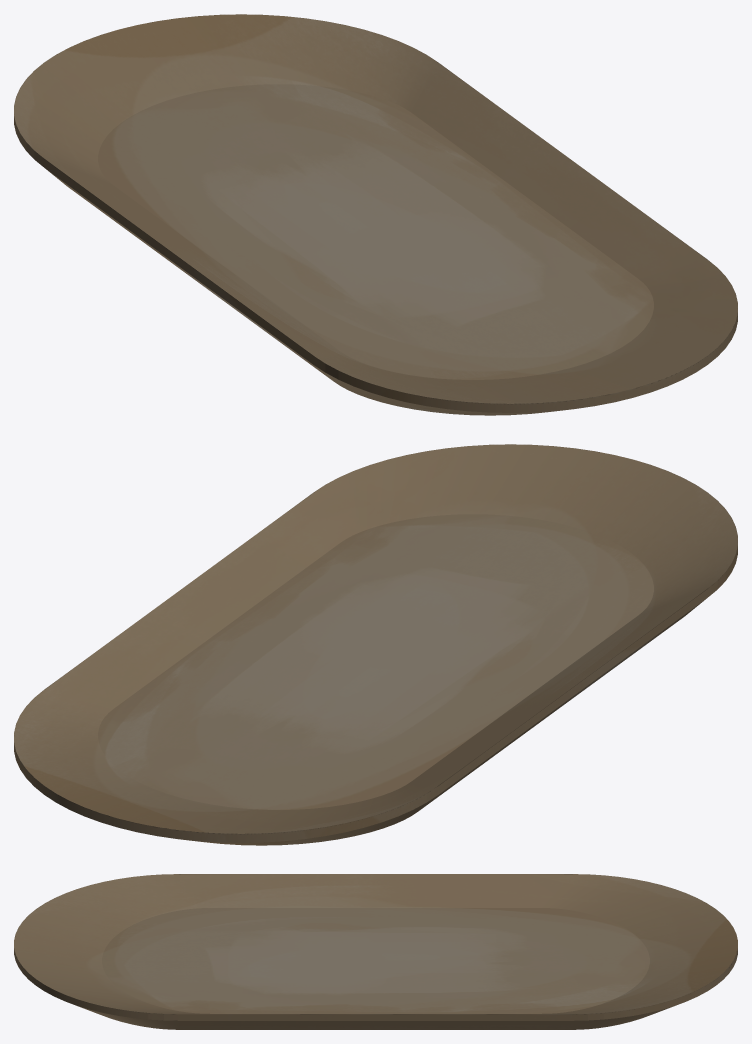
Rendered from plate.fbx.
3 renders of one model, top to bottom at view 1: azimuth 30°, elevation 25°; view 2: azimuth 150°, elevation 25°; view 3: azimuth 270°, elevation 25°, orthographic. The views are drawn at different scales.
Visible parts, largest first — view 1: 平面; view 2: 平面; view 3: 平面.
Boxes of the visible parts, x1,y1,x2,y2 form: 平面: (14, 14, 737, 415); 平面: (14, 444, 737, 845); 平面: (14, 874, 737, 1029).
Bounding box in the file's own units: 90.73 × 7.05 × 198.
Materials: 1 (1 with a texture image).
